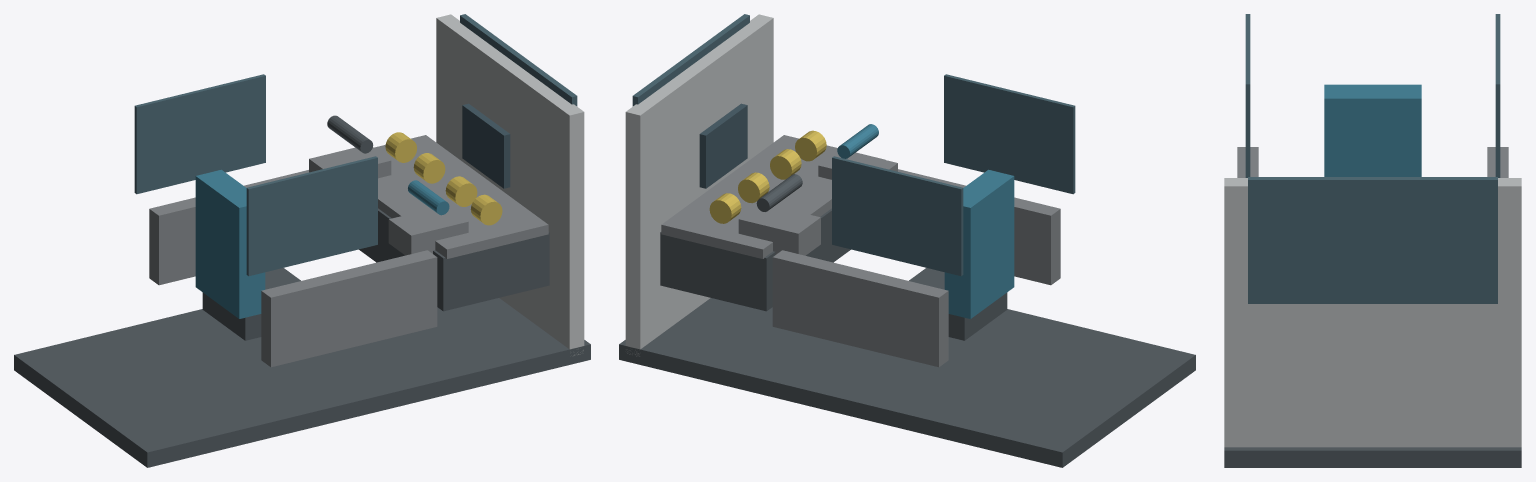
File: driver_cab_interior.glb
3 renders of one model, left to right at view 1: azimuth 30°, elevation 25°; view 2: azimuth 150°, elevation 25°; view 3: azimuth 270°, elevation 25°, orthographic. The views are drawn at different scales.
Visible parts, largest first — view 1: cab_floor, cab_front_bulkhead, side_console_1.05, side_window_1.05, side_window_-1.05, driver_seat_back, desk_top, dashboard, side_console_-1.05, main_display, brake_controller_base, driver_seat_base (+8 smaller); view 2: cab_floor, cab_front_bulkhead, side_console_-1.05, side_window_-1.05, side_window_1.05, driver_seat_back, desk_top, dashboard, side_console_1.05, master_controller_base, main_display, driver_seat_base (+8 smaller); view 3: cab_front_bulkhead, windscreen, driver_seat_back, cab_floor, side_window_-1.05, side_window_1.05, side_console_-1.05, side_console_1.05.
Part boxes in pixels (left/top/right/bottom): cab_floor: left=14, top=298, right=590, bottom=467; cab_front_bulkhead: left=436, top=14, right=584, bottom=355; side_console_1.05: left=261, top=250, right=437, bottom=367; side_window_1.05: left=246, top=156, right=377, bottom=276; side_window_-1.05: left=134, top=74, right=265, bottom=194; driver_seat_back: left=195, top=169, right=265, bottom=318; desk_top: left=374, top=135, right=548, bottom=258; dashboard: left=359, top=208, right=549, bottom=311; side_console_-1.05: left=149, top=170, right=308, bottom=285; main_display: left=462, top=103, right=510, bottom=188; brake_controller_base: left=388, top=208, right=468, bottom=255; driver_seat_base: left=202, top=268, right=300, bottom=340; cab_floor: left=619, top=298, right=1195, bottom=467; cab_front_bulkhead: left=625, top=14, right=773, bottom=356; side_console_-1.05: left=772, top=250, right=948, bottom=367; side_window_-1.05: left=832, top=156, right=963, bottom=276; side_window_1.05: left=944, top=74, right=1075, bottom=194; driver_seat_back: left=944, top=169, right=1014, bottom=318; desk_top: left=661, top=135, right=885, bottom=258; dashboard: left=660, top=208, right=850, bottom=311; side_console_1.05: left=898, top=169, right=1060, bottom=285; master_controller_base: left=738, top=206, right=820, bottom=255; main_display: left=699, top=103, right=747, bottom=188; driver_seat_base: left=909, top=268, right=1007, bottom=340; cab_front_bulkhead: left=1224, top=178, right=1521, bottom=447; windscreen: left=1248, top=177, right=1497, bottom=303; driver_seat_back: left=1324, top=84, right=1421, bottom=176; cab_floor: left=1224, top=447, right=1521, bottom=467; side_window_-1.05: left=1495, top=14, right=1500, bottom=177; side_window_1.05: left=1245, top=14, right=1250, bottom=177; side_console_-1.05: left=1487, top=147, right=1508, bottom=177; side_console_1.05: left=1237, top=147, right=1258, bottom=177.
Bounding box in the file's own units: 4.8 × 2.66 × 2.5.
